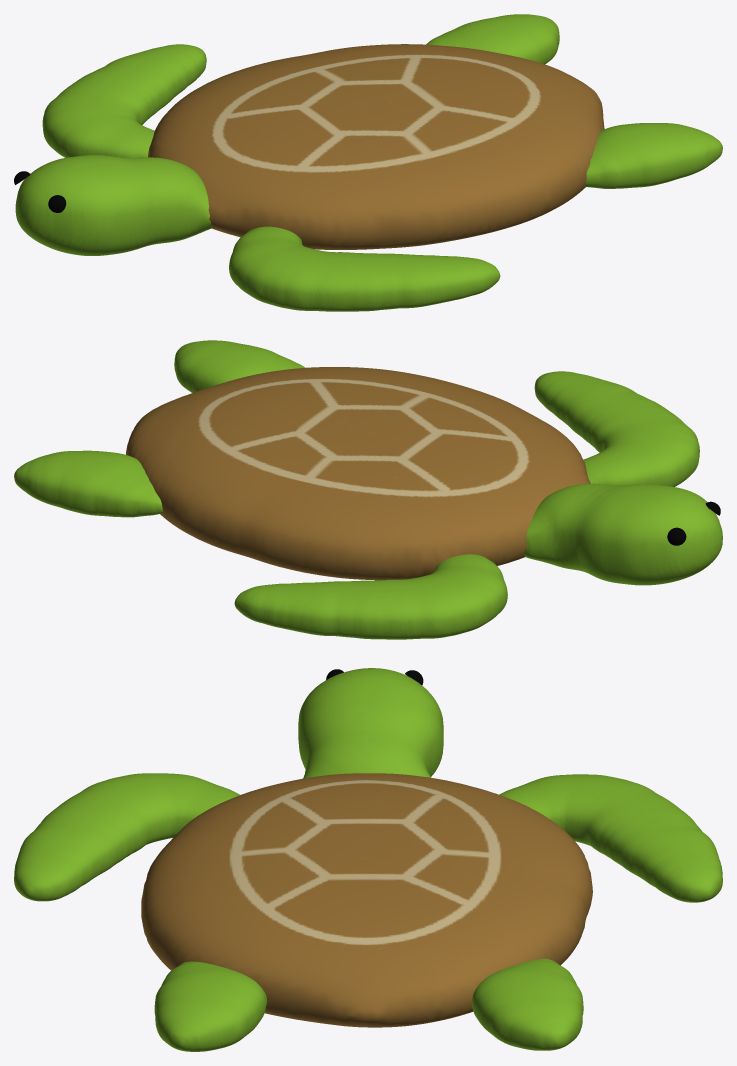
The model's file is TurtleUpdate.fbx.
3 views of the same model, one above another, from view 1: azimuth 30°, elevation 25°; view 2: azimuth 150°, elevation 25°; view 3: azimuth 270°, elevation 25° (orthographic). The views are drawn at different scales.
Parts seen in each view (by area): view 1: root (×6); view 2: root (×6); view 3: root (×6).
Part boxes in pixels (x1,y1,x2,y2): root (×6): (15,14,722,311); root (×6): (14,340,722,639); root (×6): (14,668,722,1051).
Bounding box in the file's own units: 0.4495 × 0.0658 × 0.4022.
Materials: 8 (8 with a texture image).
